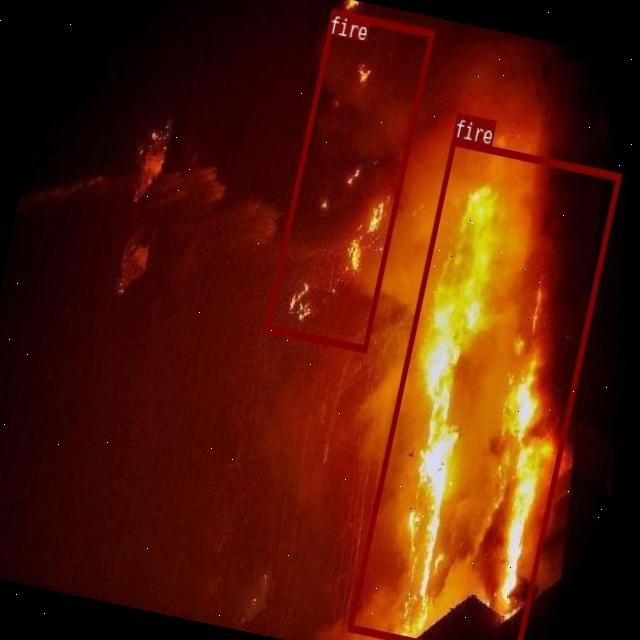fire: (347, 136, 620, 640), (263, 8, 434, 352)
